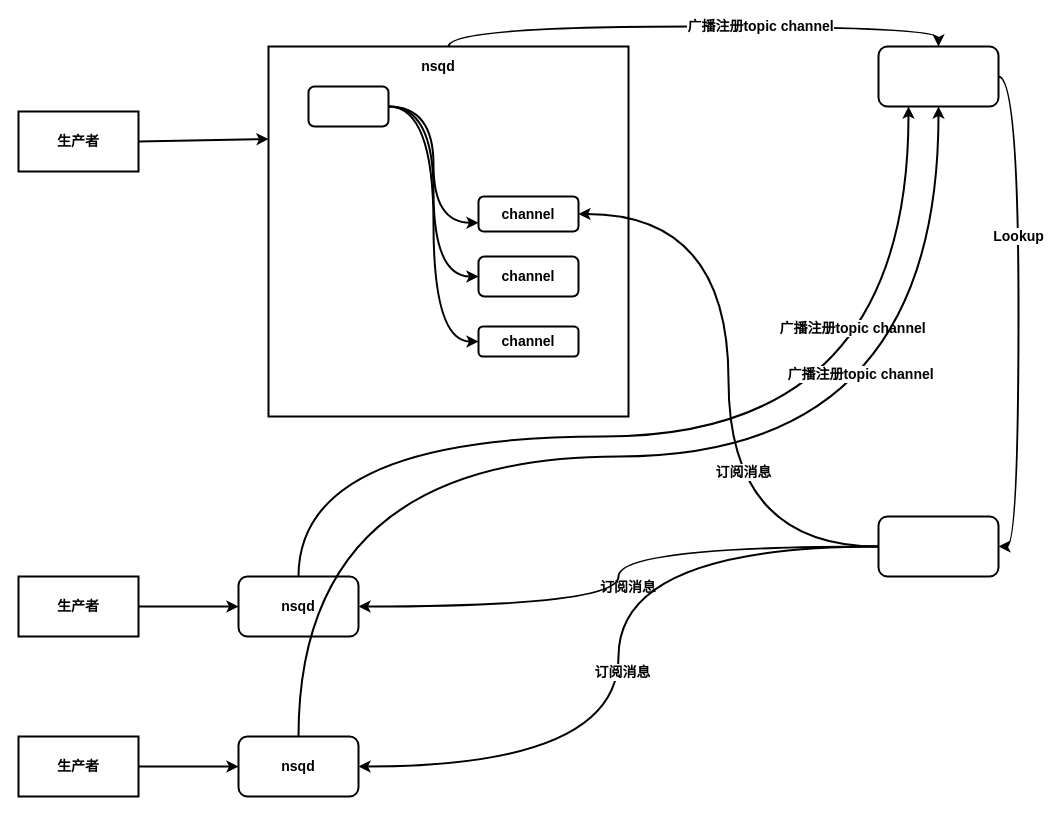
Image size: 1060x814. Some labels were removed from this diagram. Here are the shapes that lost their labels. From the top down, the box of each, then its label:
(877, 45, 999, 107): nsqlookupd
(307, 85, 389, 127): Topic
(877, 515, 999, 577): 消费者
